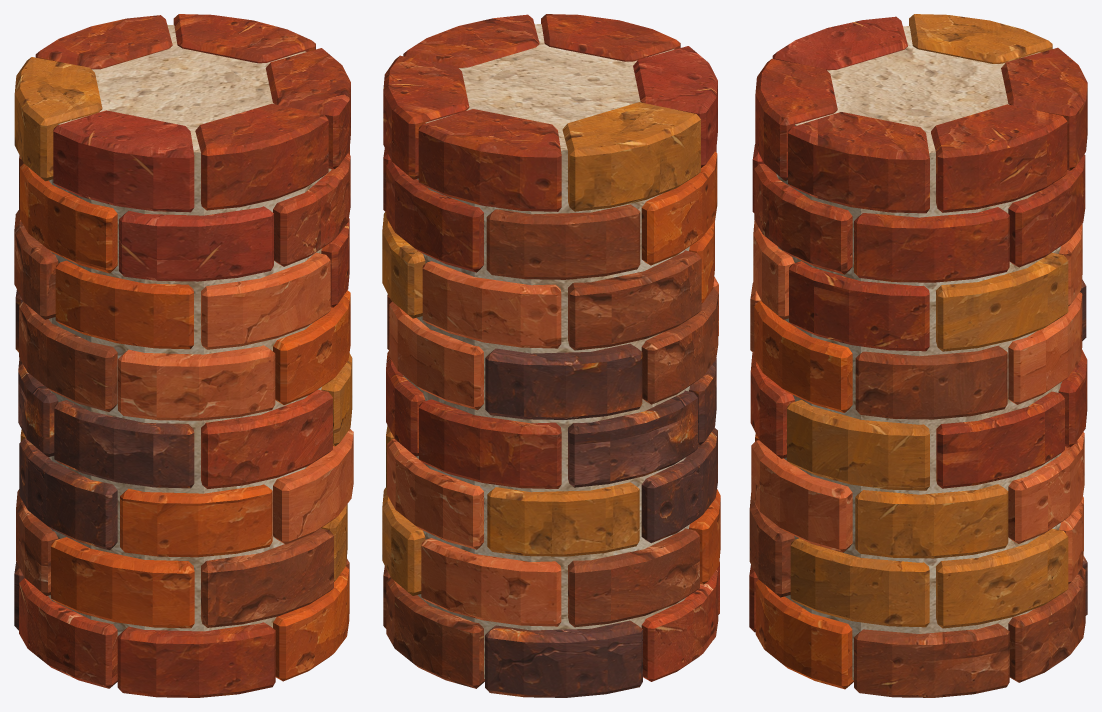
File: column_shaft__clay_brick.glb
3 renders of one model, left to right at view 1: azimuth 30°, elevation 25°; view 2: azimuth 150°, elevation 25°; view 3: azimuth 270°, elevation 25°, orthographic.
Parts seen in each view (by area): view 1: model; view 2: model; view 3: model.
Part boxes in pixels (x1,y1,x2,y2): model: [14, 14, 353, 697]; model: [382, 14, 720, 697]; model: [749, 14, 1087, 697].
Bounding box in the file's own units: 0.5539 × 0.987 × 0.5543.
9 materials, 9 textured.
